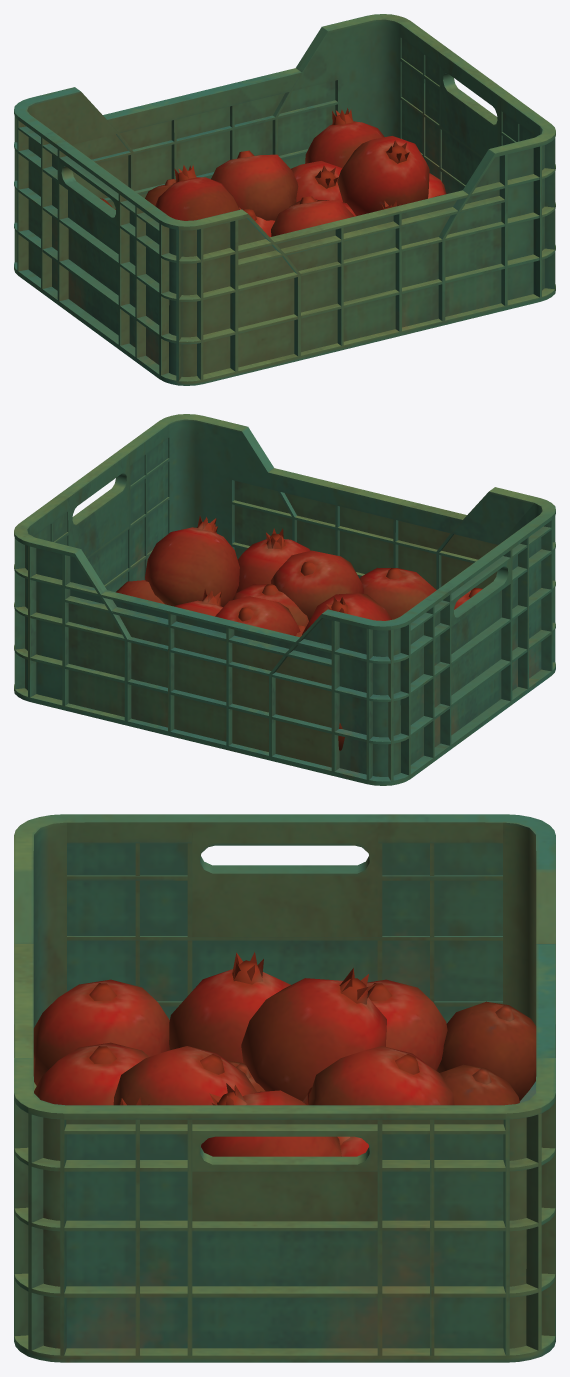
File: SM_SP_Prefab05.fbx
3 renders of one model, top to bottom at view 1: azimuth 30°, elevation 25°; view 2: azimuth 150°, elevation 25°; view 3: azimuth 270°, elevation 25°, orthographic. The views are drawn at different scales.
Parts seen in each view (by area): view 1: SM_SP_Prefab05_LOD0; view 2: SM_SP_Prefab05_LOD0; view 3: SM_SP_Prefab05_LOD0.
Boxes of the visible parts, <box> form: SM_SP_Prefab05_LOD0: <box>14,14,555,385</box>; SM_SP_Prefab05_LOD0: <box>14,414,555,785</box>; SM_SP_Prefab05_LOD0: <box>14,814,555,1362</box>.
Bounding box in the file's own units: 61.73 × 47.24 × 25.29.
1 material, 1 textured.
